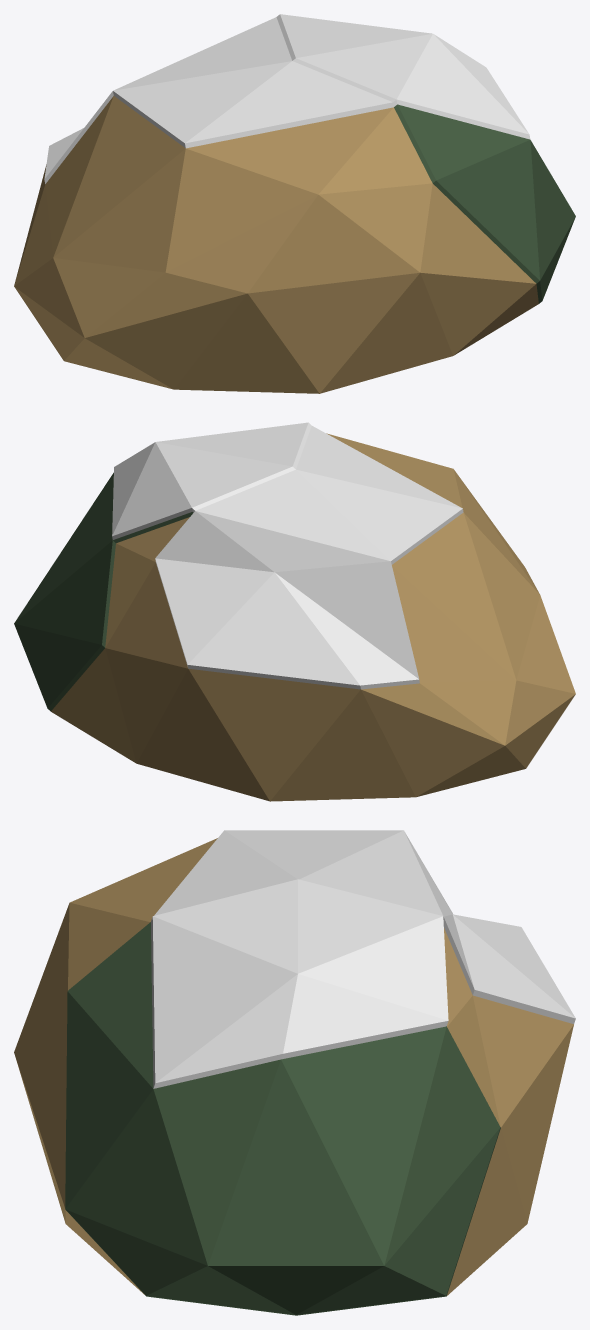
File: MossStone2Eb.fbx
The picture shows the model from 3 angles, top to bottom: view 1: azimuth 30°, elevation 25°; view 2: azimuth 150°, elevation 25°; view 3: azimuth 270°, elevation 25°; orthographic projection. The views are drawn at different scales.
Parts seen in each view (by area): view 1: MossStone2E.001; view 2: MossStone2E.001; view 3: MossStone2E.001.
Part boxes in pixels (box(x1,y1,x2,y2)): MossStone2E.001: box(14, 14, 575, 393); MossStone2E.001: box(14, 422, 575, 801); MossStone2E.001: box(14, 830, 575, 1315).
Size of the model in its own units: 495 by 237 by 394.
